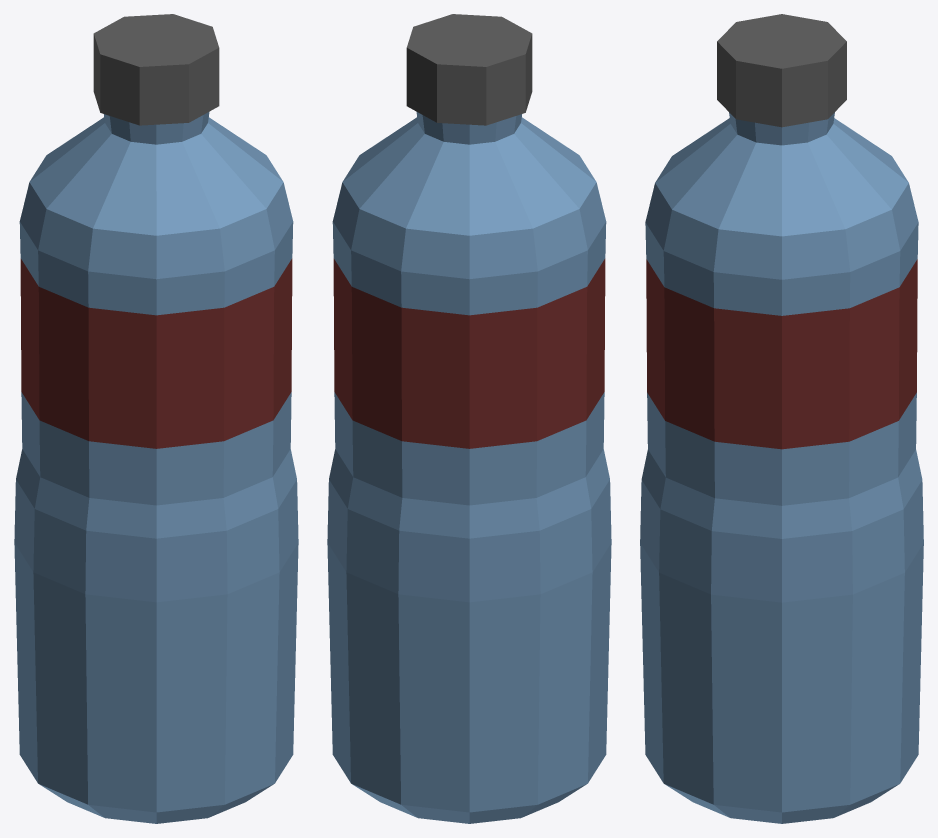
Rendered from Water Bottle.glb.
3 renders of one model, left to right at view 1: azimuth 30°, elevation 25°; view 2: azimuth 150°, elevation 25°; view 3: azimuth 270°, elevation 25°, orthographic.
Parts seen in each view (by area): view 1: Water Bottle; view 2: Water Bottle; view 3: Water Bottle.
Boxes of the visible parts, <box> form: Water Bottle: <box>14,14,298,823</box>; Water Bottle: <box>327,14,611,823</box>; Water Bottle: <box>640,14,923,823</box>.
Size of the model in its own units: 0.4995 by 1.44 by 0.4995.
